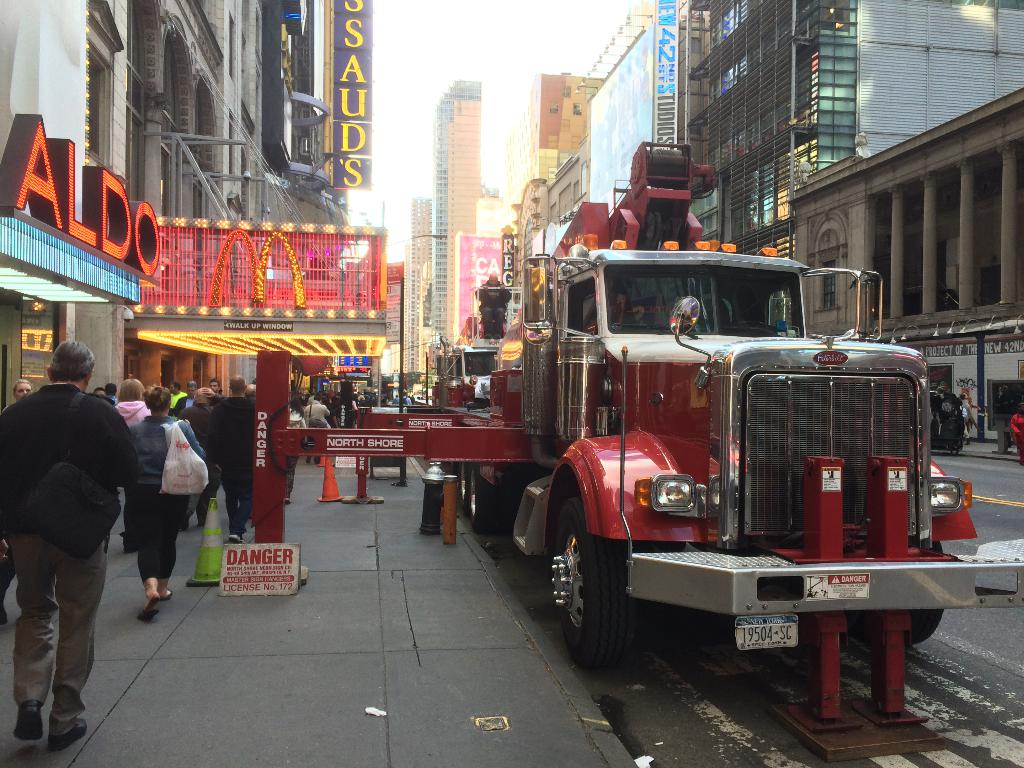Footwear: (13, 696, 43, 741), (49, 718, 88, 751), (228, 532, 242, 543)
